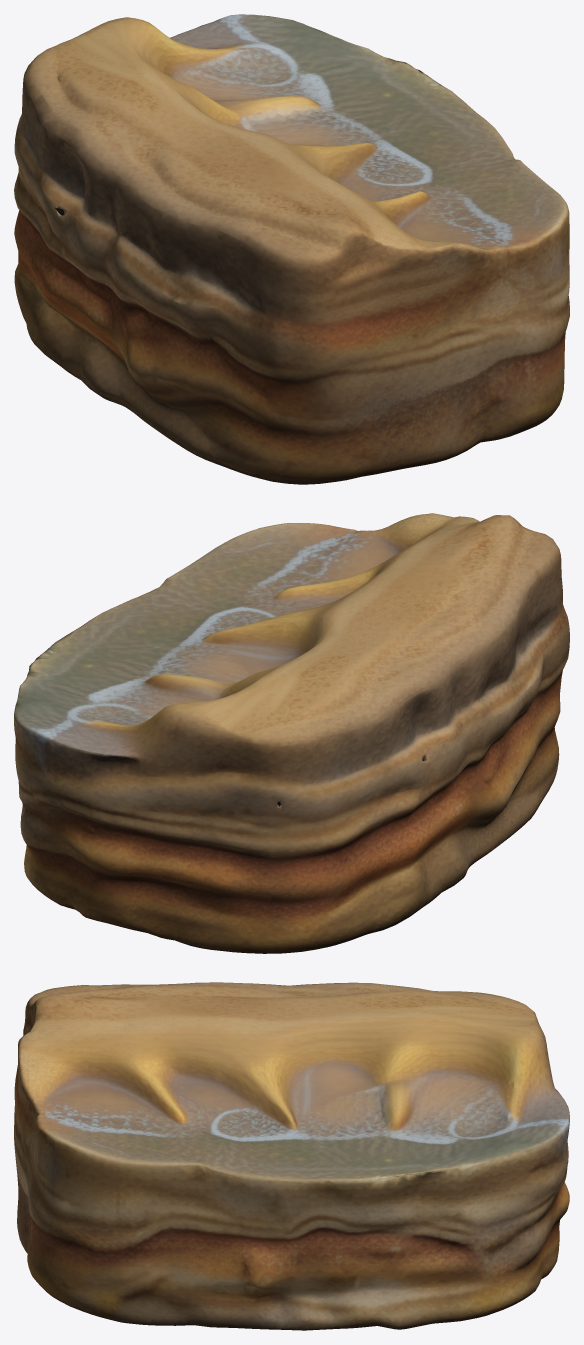
The picture shows the model from 3 angles, top to bottom: view 1: azimuth 30°, elevation 25°; view 2: azimuth 150°, elevation 25°; view 3: azimuth 270°, elevation 25°; orthographic projection. The views are drawn at different scales.
Parts seen in each view (by area): view 1: world; view 2: world; view 3: world.
Boxes of the visible parts, box(x1,y1,x2,y2) form: world: box(14, 14, 569, 484); world: box(14, 513, 569, 953); world: box(14, 982, 569, 1330).
Bounding box in the file's own units: 20.04 × 12.62 × 28.
Materials: 1 (1 with a texture image).
